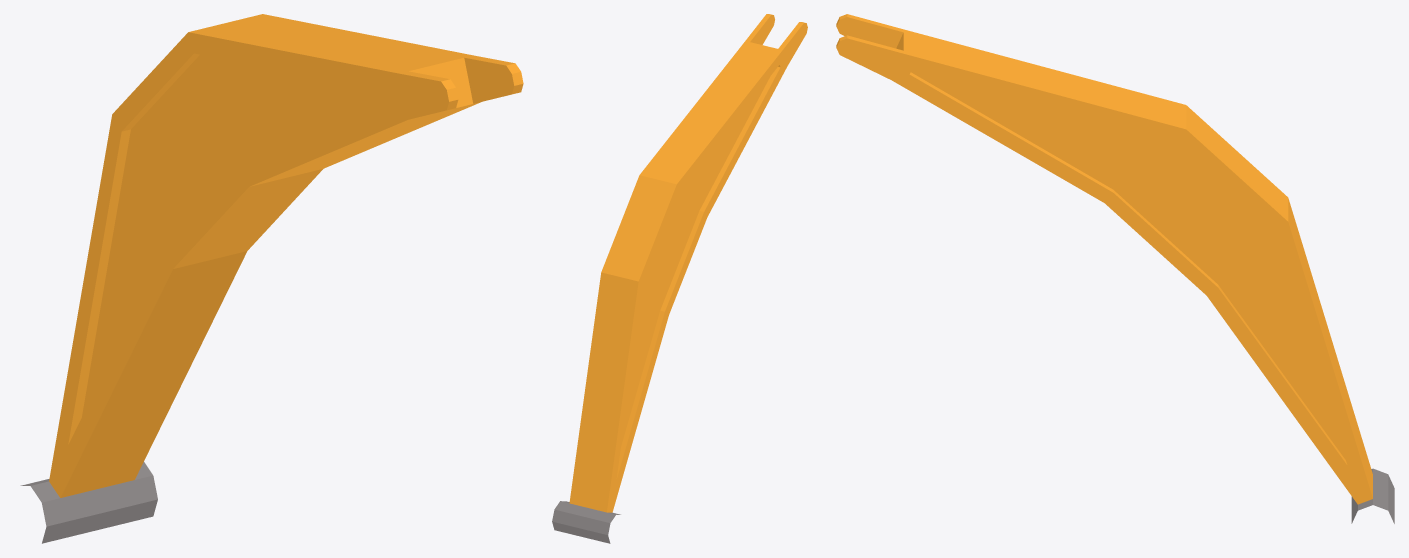
File: excavator-arm-base.glb
3 renders of one model, left to right at view 1: azimuth 30°, elevation 25°; view 2: azimuth 150°, elevation 25°; view 3: azimuth 270°, elevation 25°, orthographic. The views are drawn at different scales.
Visible parts, largest first — view 1: excavator-arm-base; view 2: excavator-arm-base; view 3: excavator-arm-base.
Part boxes in pixels (<box>): excavator-arm-base: <box>20,14,523,543</box>; excavator-arm-base: <box>552,14,807,543</box>; excavator-arm-base: <box>836,14,1394,523</box>.
Size of the model in its own units: 0.5997 by 3.82 by 3.87.
1 material, 1 textured.
